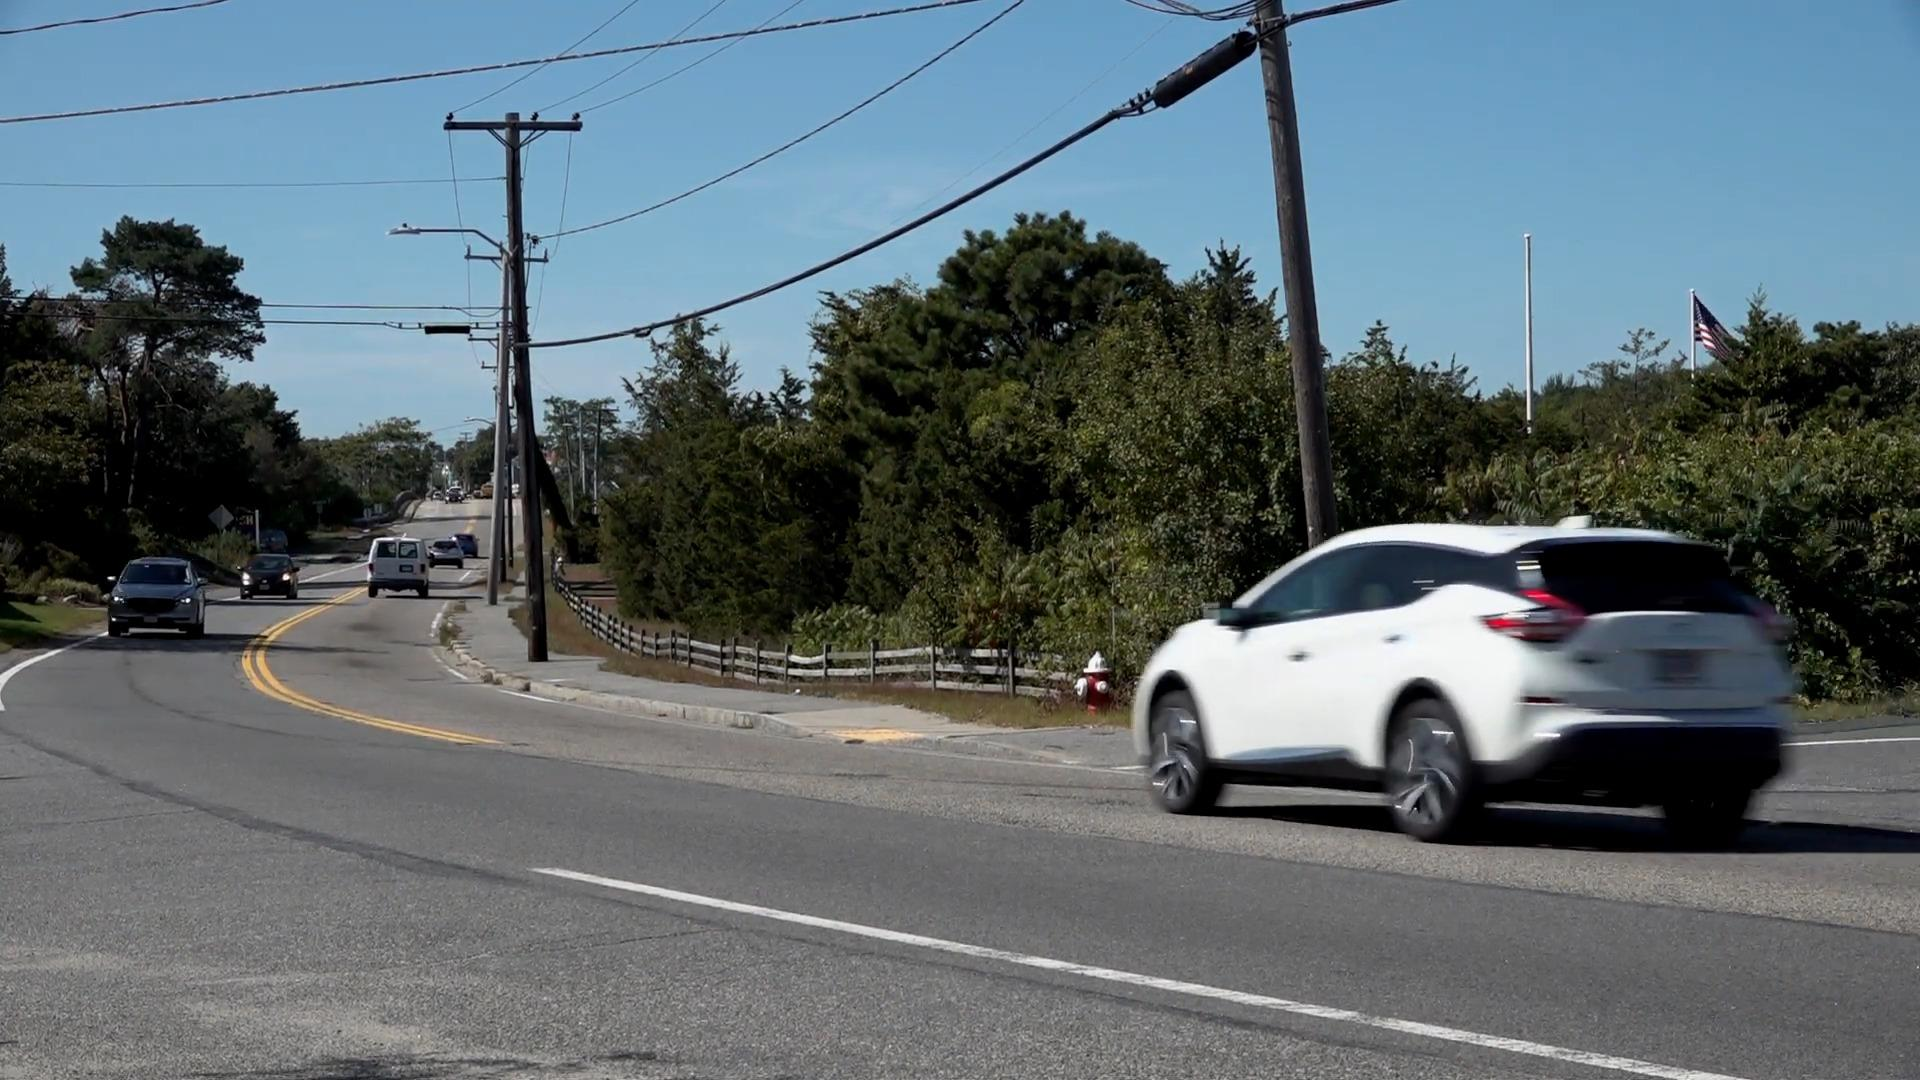suv: (1138, 510, 1796, 844), (108, 554, 203, 640)
